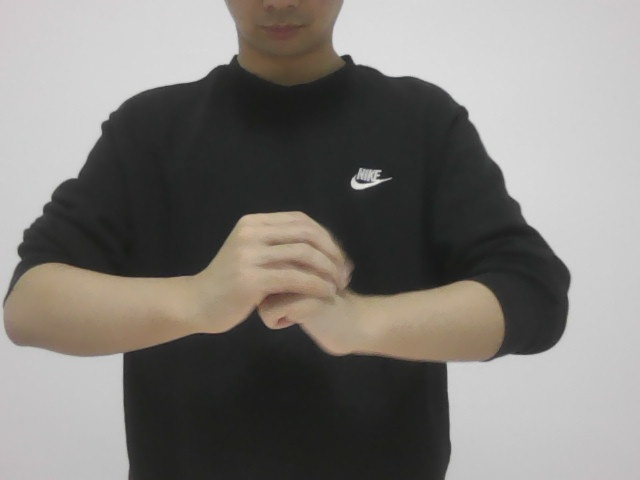wish: (190, 205, 360, 362)
